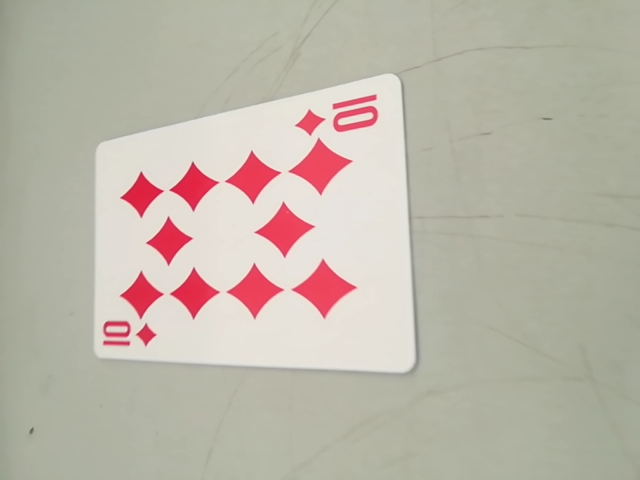fk 10: (296, 90, 385, 143), (97, 315, 164, 358)
